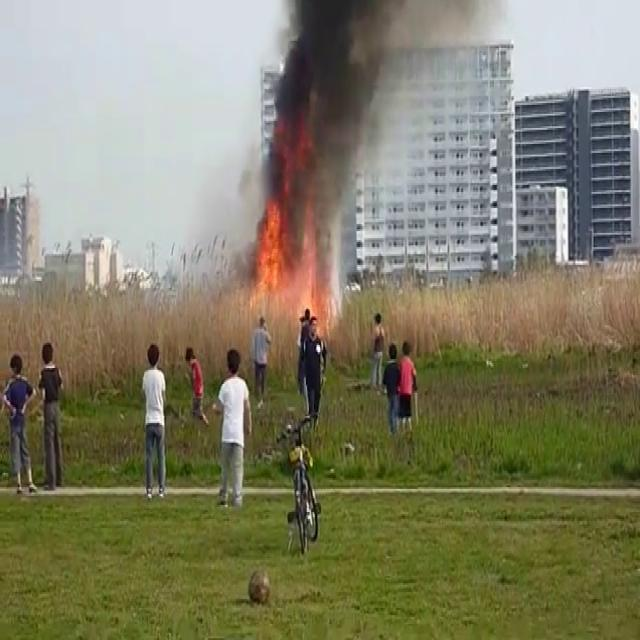Fire: (244, 190, 330, 324)
Smoke: (244, 1, 405, 250)
